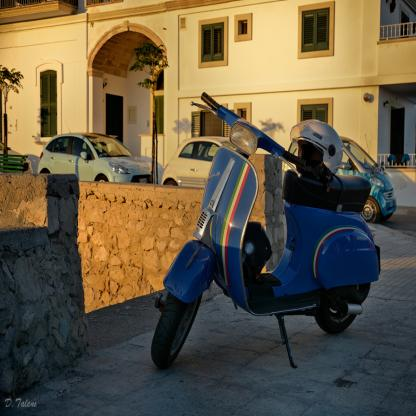Helmet: (294, 120, 340, 173)
